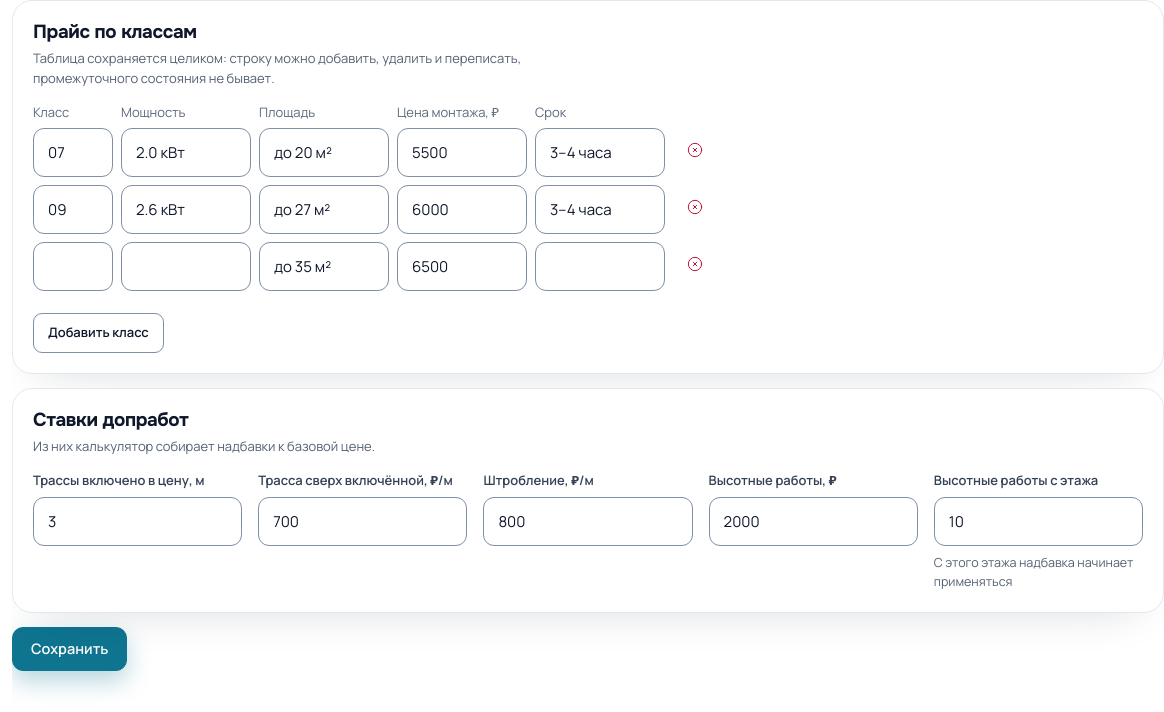
Форма цен › 🔴 строка без класса останавливает отправку, а не теряется
Click the button "Сохранить".
click(70, 649)  # box [12,627,127,671]
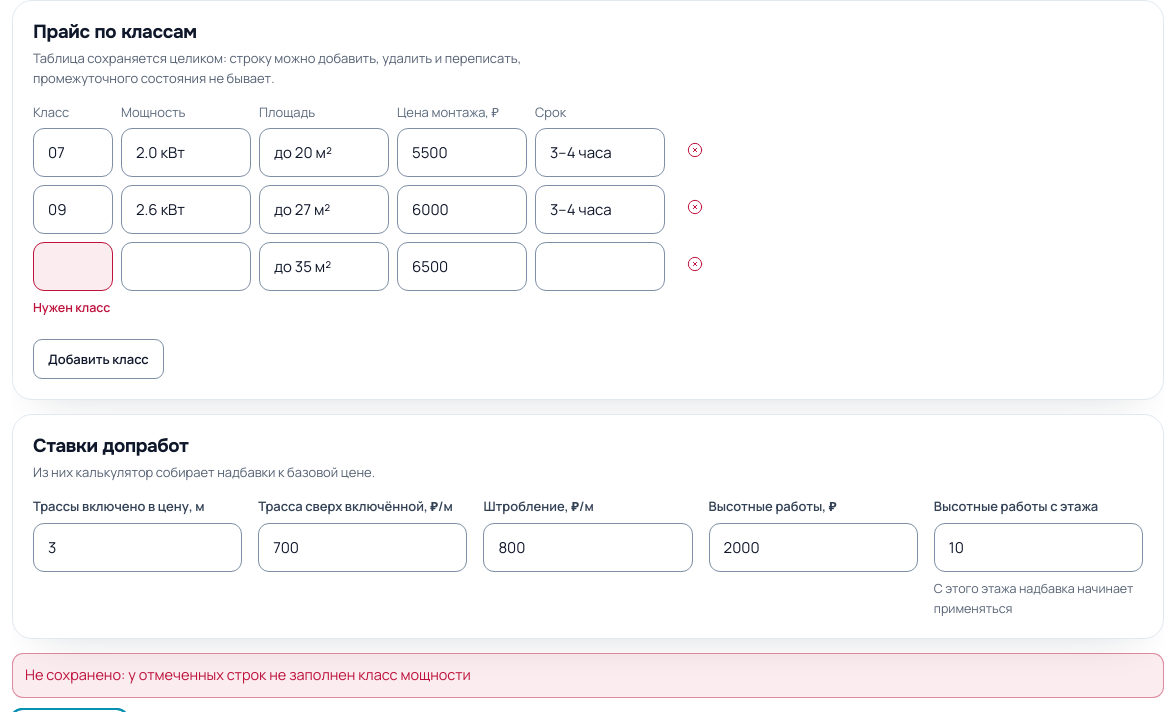
Now the text "Не сохранено: у отмеченных строк не заполнен класс мощности" is shown, box [12,653,1163,698]
